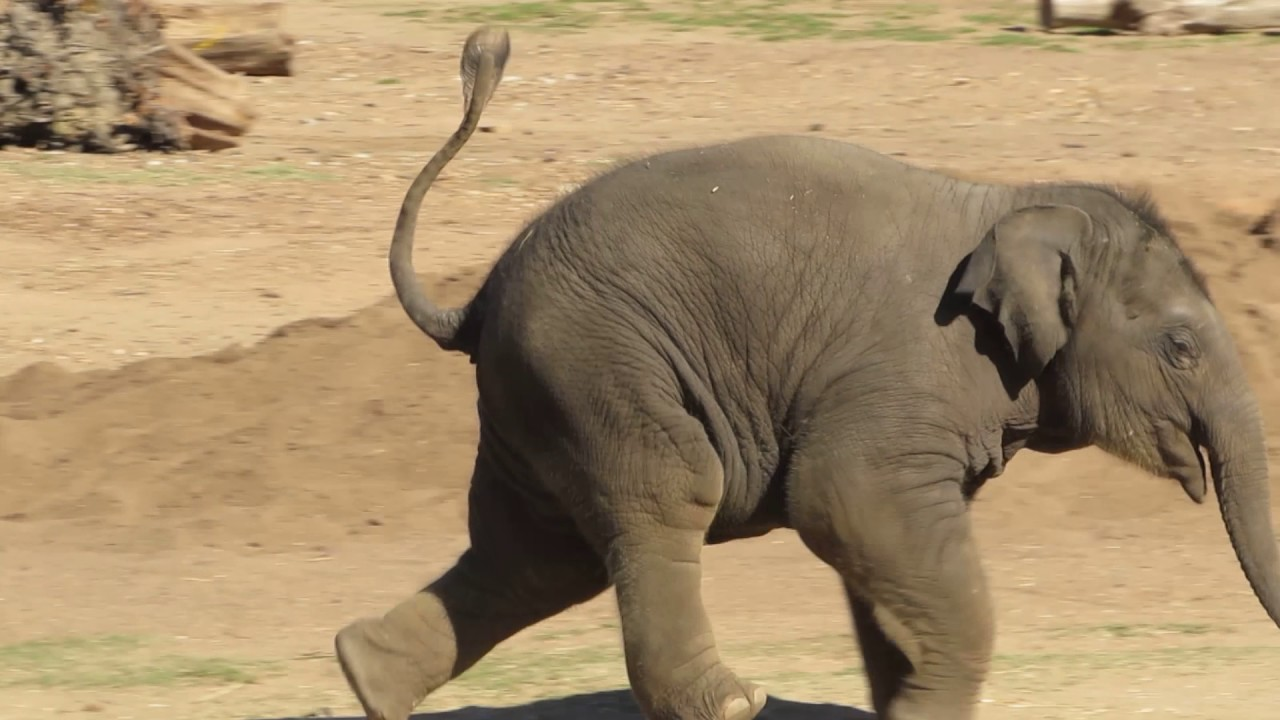elephant: (340, 24, 1280, 718)
